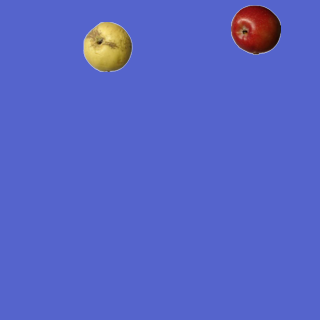Apple Braeburn: (230, 4, 280, 54)
Apple Golden 1: (82, 21, 132, 71)
